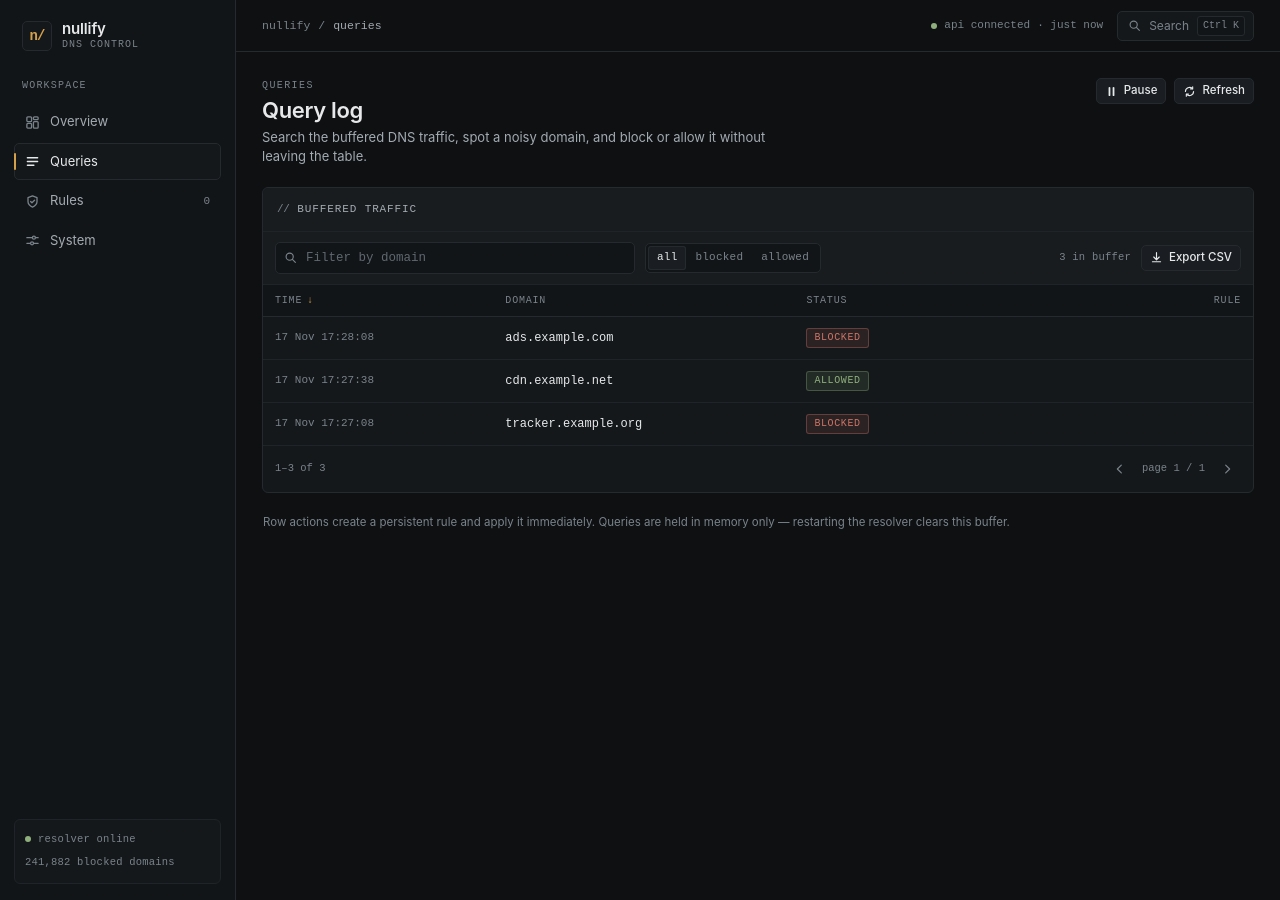
Test: dashboard › filters the query table by domain
Check: the text "page 1 / 1" is shown, box [1142,461,1205,476]
Step 1. Type "ads" into the field named "Filter queries by domain" → (455, 258), box [275,242,635,274]
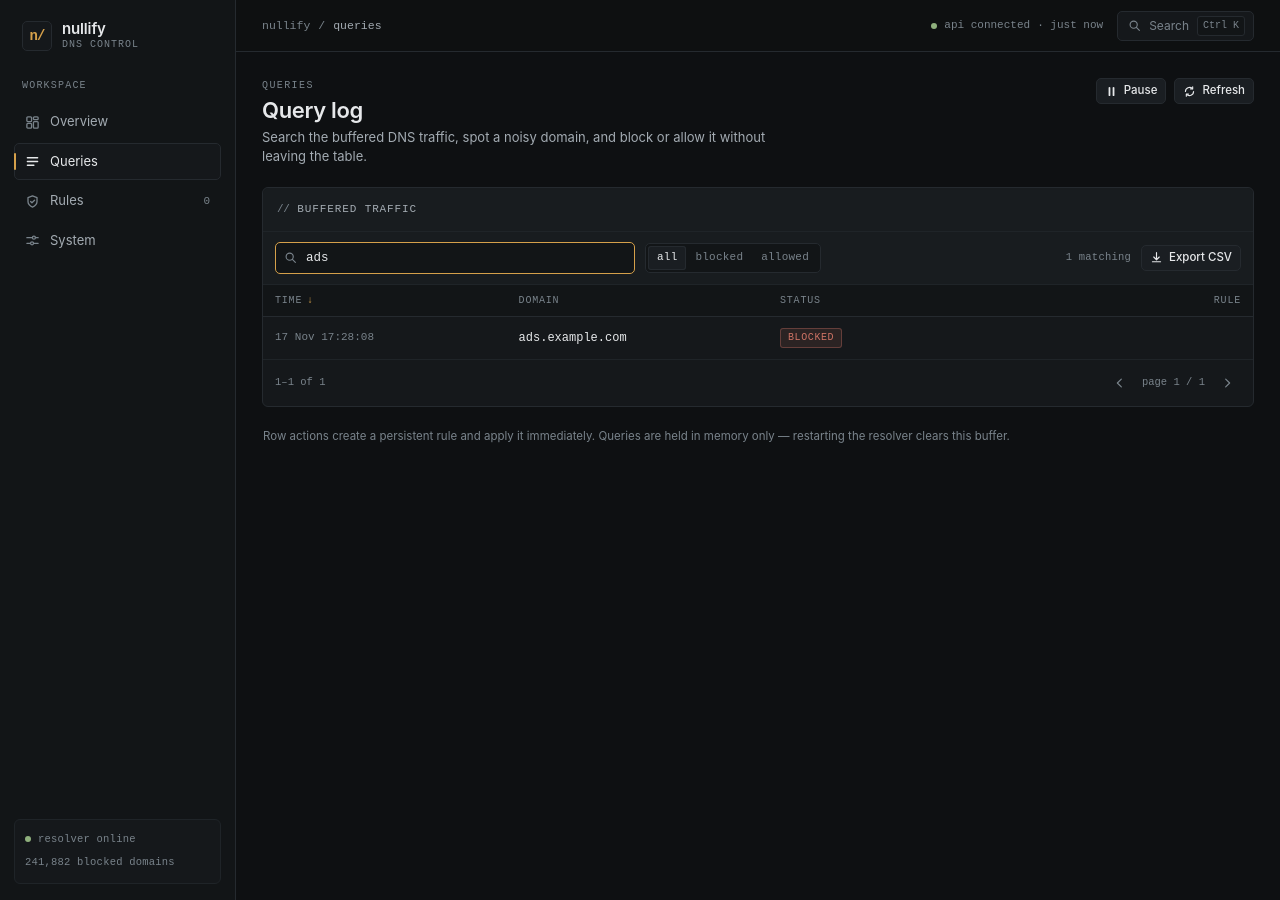
Check: the text "ads.example.com" is shown, box [507,316,768,358]
Check: the text "cdn.example.net" is gone
Step 2. Clear the field named "Filter queries by domain" → (455, 258), box [275,242,635,274]
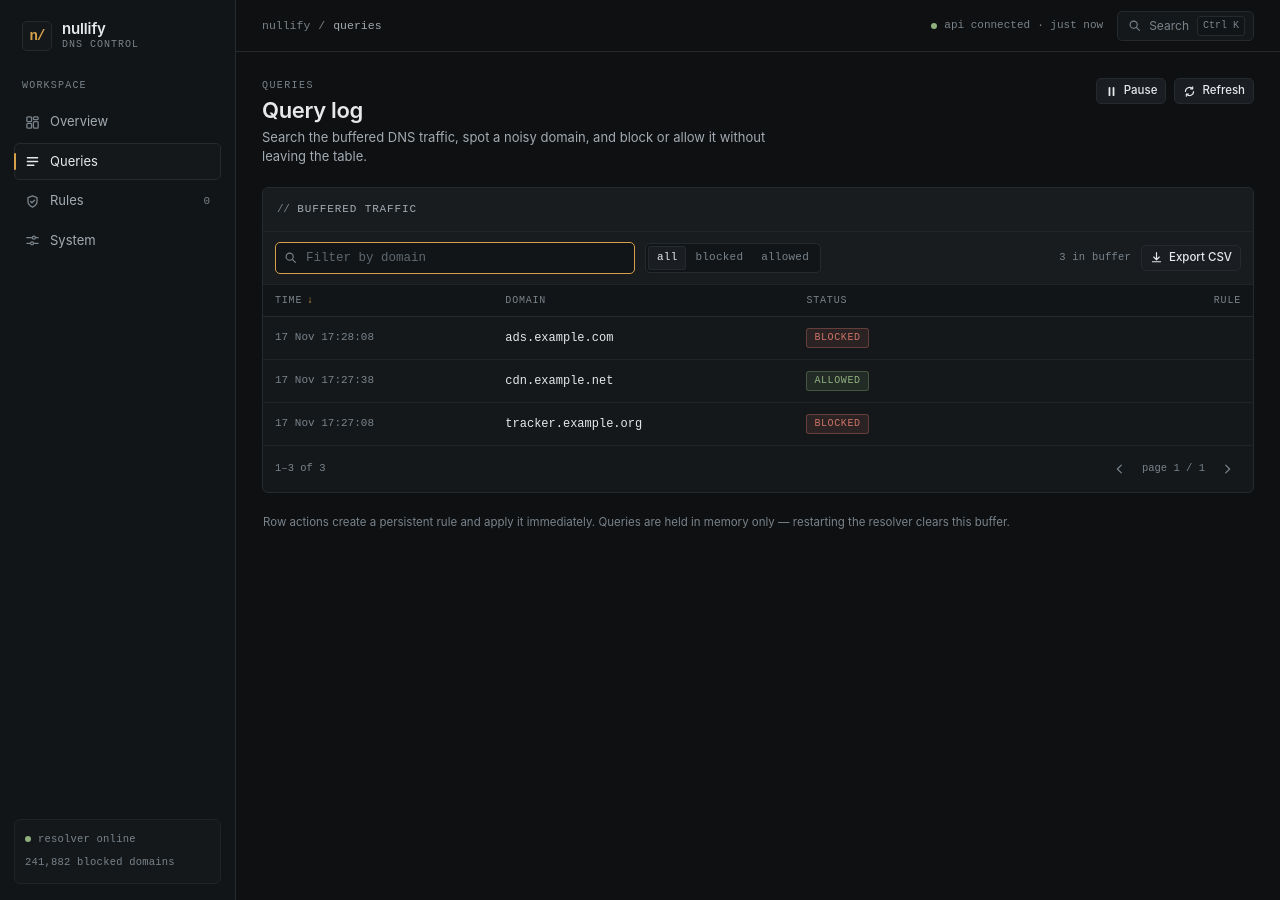
Check: the text "cdn.example.net" is shown, box [493,359,794,402]
Check: the text "tracker.example.org" is shown, box [493,402,794,444]
